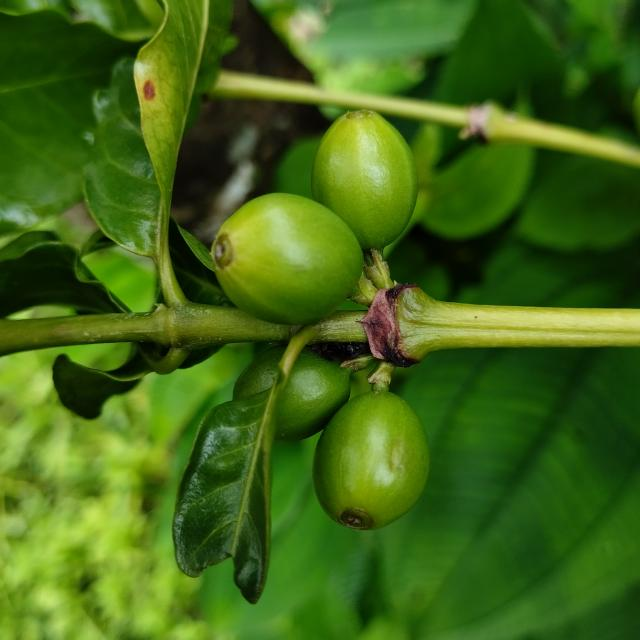green: (211, 193, 364, 325), (313, 392, 430, 531), (311, 110, 418, 252), (275, 347, 351, 442), (233, 345, 286, 400)
